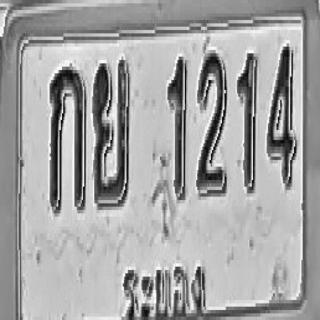A01: (49, 63, 86, 213)
A34: (92, 58, 130, 208)
N01: (237, 50, 258, 193), (167, 55, 187, 202)
N02: (196, 50, 227, 197)
N04: (267, 42, 296, 188)
